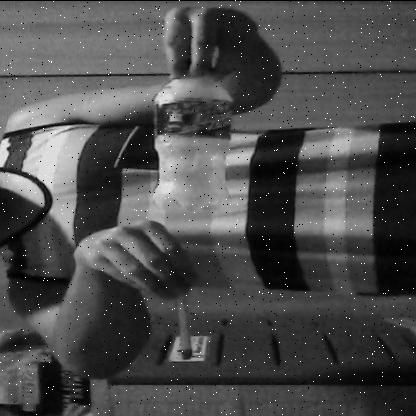Plastic Bottle: (133, 48, 239, 212)
